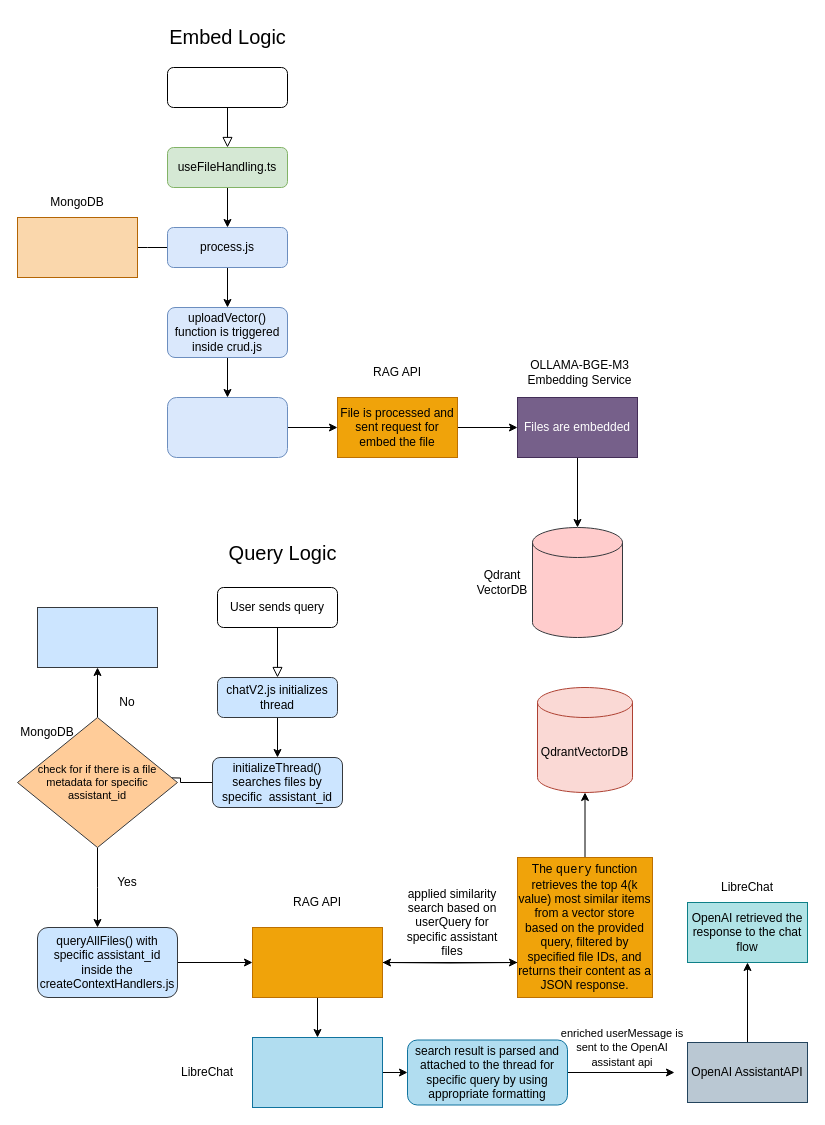
This 825x1125 diagram has some shape labels left out. Here are the shapes that lost their labels. From the top down, the centre of each, then its label:
At (227,87): "User Uploads File".
At (77,247): "creates file metadata in MongoDB".
At (227,427): "file sent to the RAG API by /upload enpoint".
At (577,582): "Files are stored in vectordb with specific metadata".
At (97,637): "Process without sending request to RAG API".
At (317,962): "Gets the user query and the specific file_ids".
At (317,1072): "Search results are returned".
